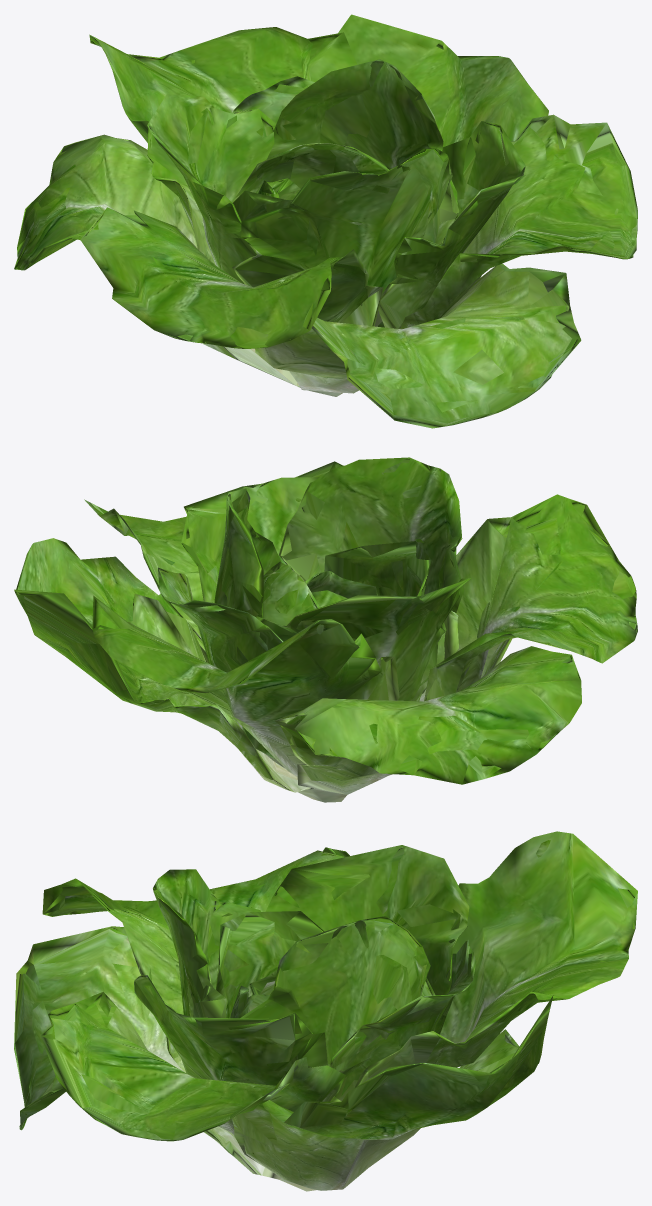
Rendered from Lettuce.fbx.
3 renders of one model, top to bottom at view 1: azimuth 30°, elevation 25°; view 2: azimuth 150°, elevation 25°; view 3: azimuth 270°, elevation 25°, orthographic. The views are drawn at different scales.
Visible parts, largest first — view 1: Lettuce; view 2: Lettuce; view 3: Lettuce.
Boxes of the visible parts, x1,y1,x2,y2 form: Lettuce: [14, 14, 637, 428]; Lettuce: [14, 457, 637, 802]; Lettuce: [14, 831, 637, 1191].
Bounding box in the file's own units: 30.29 × 15.99 × 29.83.
